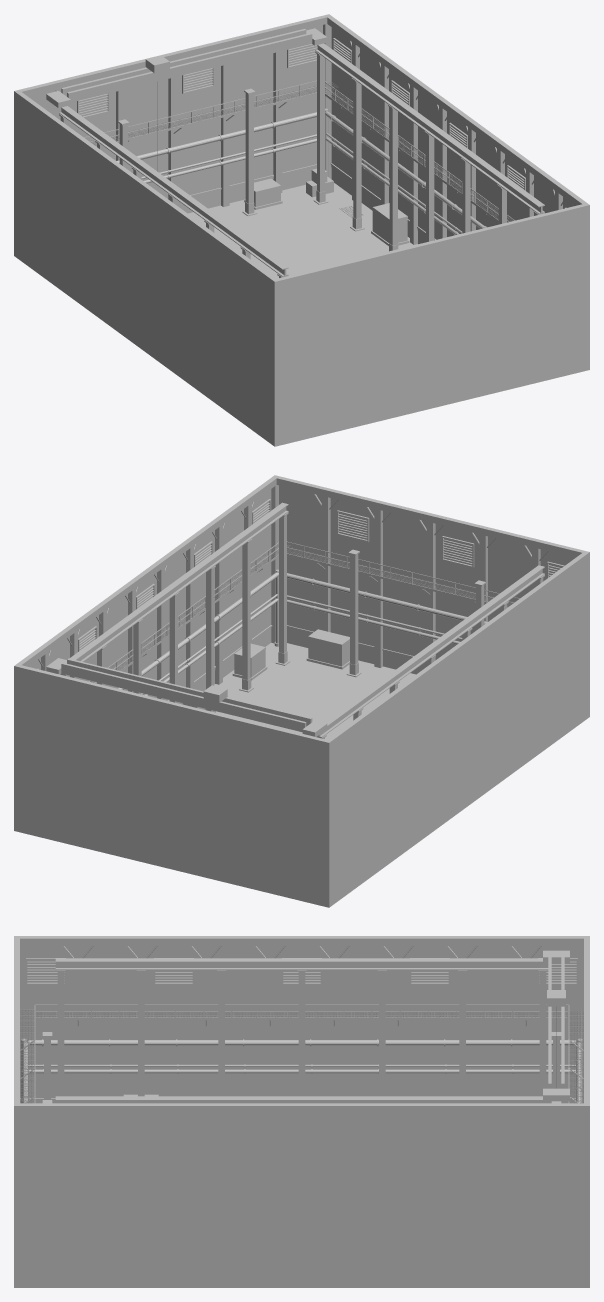
File: TestMap3Env.fbx
3 views of the same model, one above another, from view 1: azimuth 30°, elevation 25°; view 2: azimuth 150°, elevation 25°; view 3: azimuth 270°, elevation 25° (orthographic). The views are drawn at different scales.
Visible parts, largest first — view 1: Env_Walls, Env_SteelFrame, Env_Columns, Env_Floor, Env_Catwalk, Env_Pipes, Env_Machinery; view 2: Env_Walls, Env_SteelFrame, Env_Columns, Env_Floor, Env_Catwalk, Env_Pipes, Env_Machinery; view 3: Env_Walls, Env_SteelFrame, Env_Columns, Env_Catwalk, Env_Pipes.
Boxes of the visible parts, x1,y1,x2,y2 form: Env_Walls: [14, 25, 589, 446]; Env_SteelFrame: [14, 14, 589, 281]; Env_Columns: [46, 28, 544, 277]; Env_Floor: [188, 183, 417, 278]; Env_Catwalk: [84, 80, 514, 222]; Env_Pipes: [116, 108, 486, 235]; Env_Machinery: [244, 168, 409, 245]; Env_Walls: [14, 485, 589, 907]; Env_SteelFrame: [14, 475, 589, 742]; Env_Columns: [46, 502, 544, 738]; Env_Floor: [214, 642, 415, 739]; Env_Catwalk: [89, 541, 519, 683]; Env_Pipes: [117, 569, 487, 695]; Env_Machinery: [182, 629, 349, 709]; Env_Walls: [14, 946, 589, 1287]; Env_SteelFrame: [14, 936, 589, 1105]; Env_Columns: [42, 950, 569, 1103]; Env_Catwalk: [20, 1004, 583, 1103]; Env_Pipes: [21, 1038, 582, 1103].
Bounding box in the file's own units: 3000 × 1593 × 4300.
